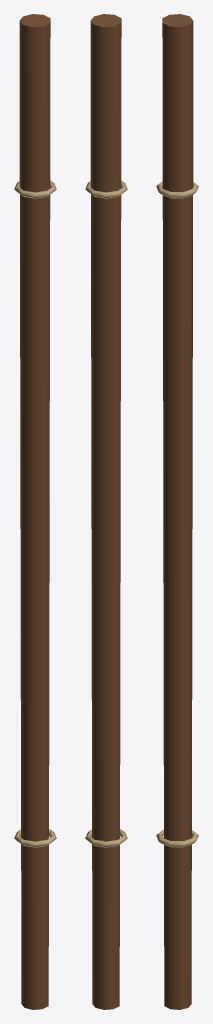
The model's file is stone_elder.glb.
3 views of the same model, side by side, from view 1: azimuth 30°, elevation 25°; view 2: azimuth 150°, elevation 25°; view 3: azimuth 330°, elevation 25° (orthographic).
Visible parts, largest first — view 1: part_0, part_1; view 2: part_0, part_1; view 3: part_0, part_1.
Part boxes in pixels (left/top/right/bottom): part_0: left=19, top=14, right=50, bottom=1009; part_1: left=14, top=180, right=56, bottom=847; part_0: left=90, top=14, right=121, bottom=1009; part_1: left=85, top=180, right=127, bottom=847; part_0: left=162, top=14, right=193, bottom=1009; part_1: left=156, top=181, right=198, bottom=847.
Bounding box in the file's own units: 0.0369 × 0.95 × 0.0374.
